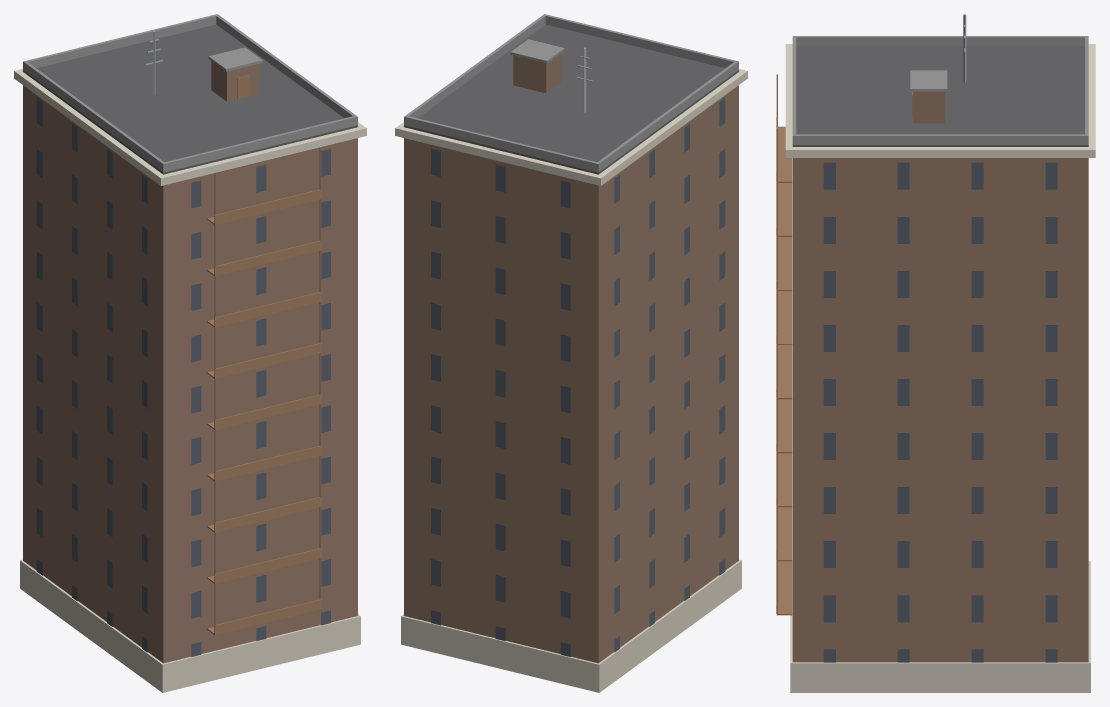
Rendered from bld_walkup_03.glb.
The picture shows the model from 3 angles, left to right: view 1: azimuth 30°, elevation 25°; view 2: azimuth 150°, elevation 25°; view 3: azimuth 270°, elevation 25°; orthographic projection. The views are drawn at different scales.
Parts seen in each view (by area): view 1: bld_walkup_03; view 2: bld_walkup_03; view 3: bld_walkup_03.
Boxes of the visible parts, left/top/right/bottom form: bld_walkup_03: left=14, top=14, right=366, bottom=692; bld_walkup_03: left=395, top=14, right=747, bottom=692; bld_walkup_03: left=776, top=14, right=1095, bottom=692.
Size of the model in its own units: 12.7 by 34.37 by 16.17.
